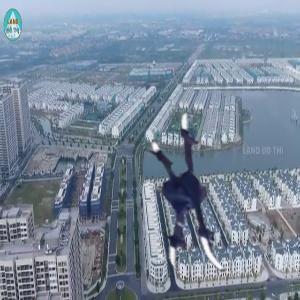drone: (122, 116, 283, 277)
